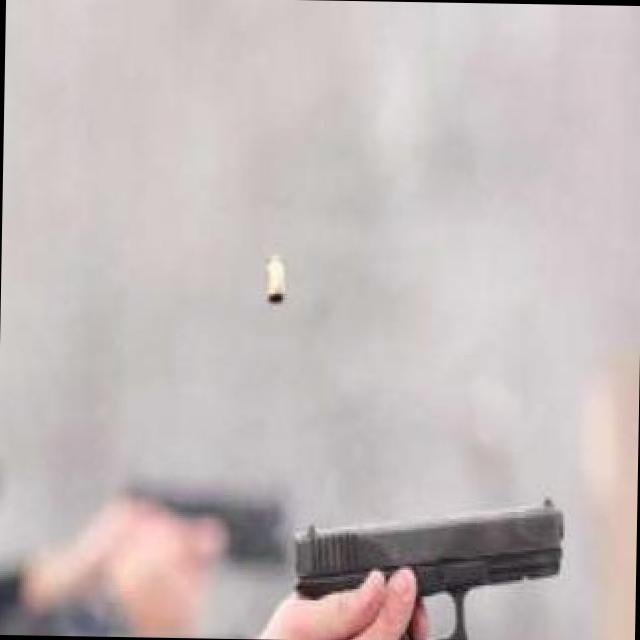Guns: (284, 483, 575, 640)
